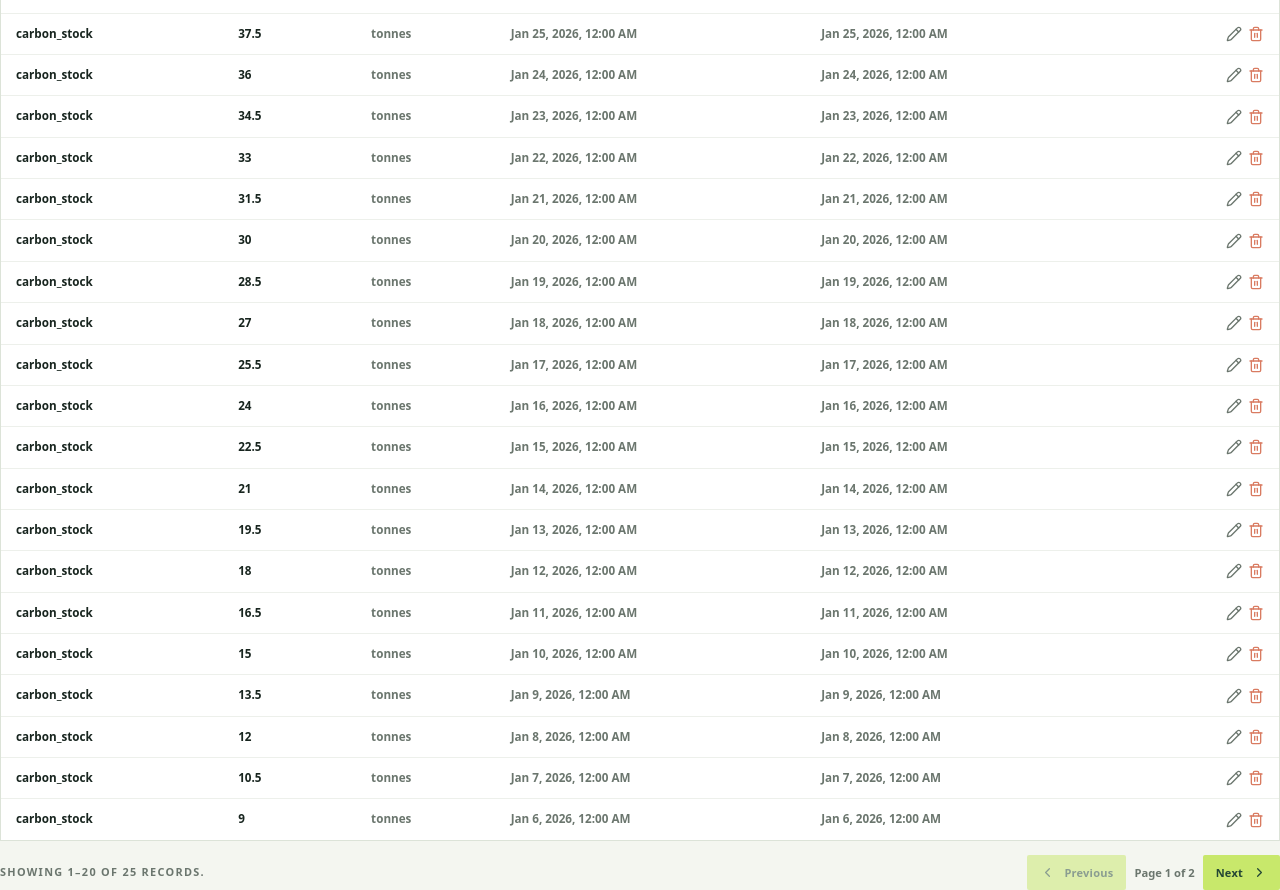
SiteMetricRecords table › paginates the loaded records and reports the visible range
(page scrolled)
Expected: the text "Showing 1–20 of 25 records." is shown, [0,867,205,878]
Expected: the text "Page 1 of 2" is shown, [1134,867,1195,878]
Click the button with aria-label "Next metric records page" at (1241, 872), box [1203,855,1279,889]
(page scrolled)
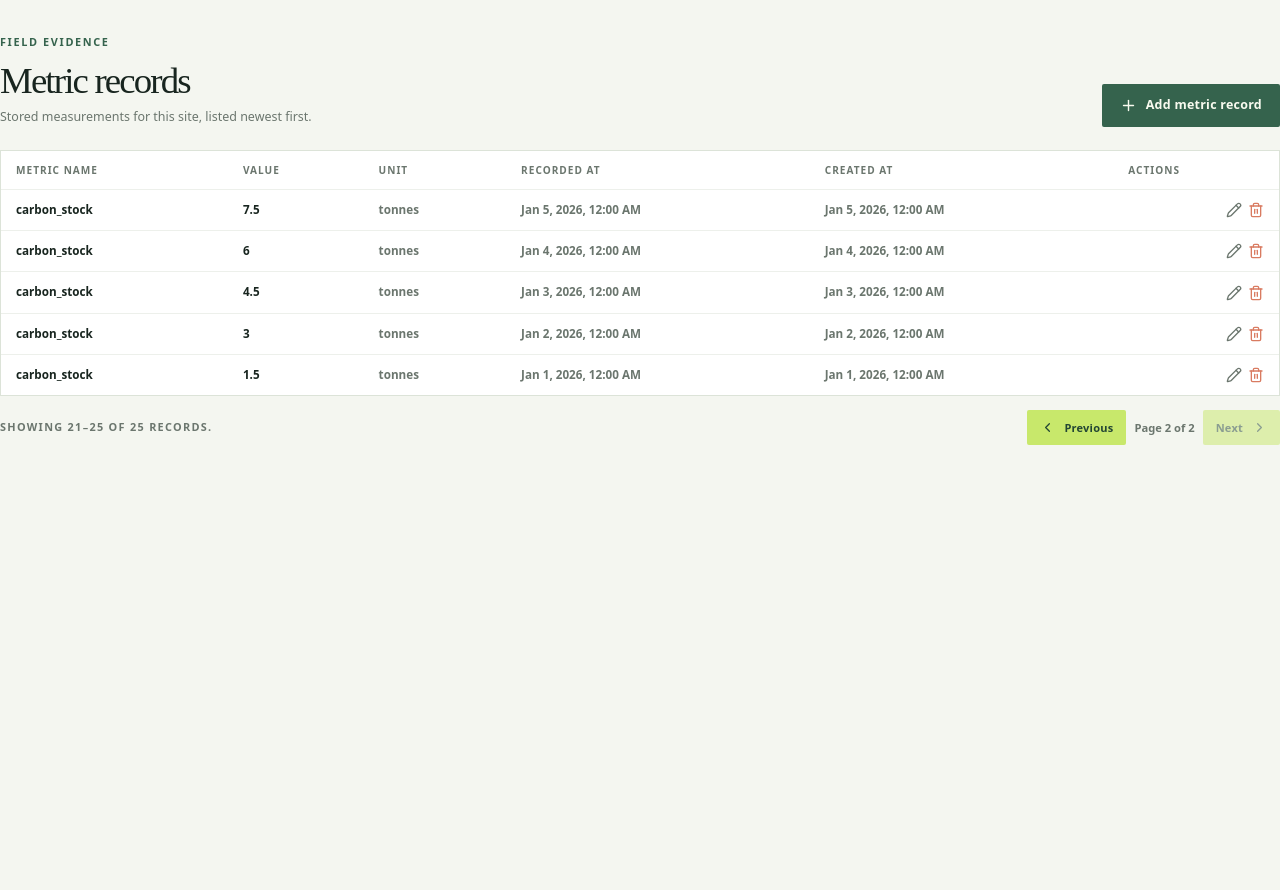
Expected: the text "Showing 21–25 of 25 records." is shown, [0,422,212,433]
Expected: the text "Page 2 of 2" is shown, [1134,422,1195,434]
Expected: the button with aria-label "Next metric records page" is disabled, [1203,410,1279,445]
